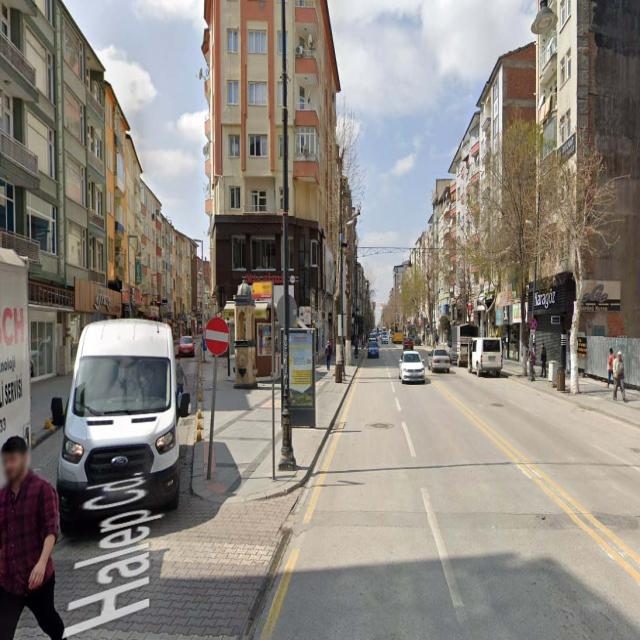girisyok: (204, 318, 230, 354)
